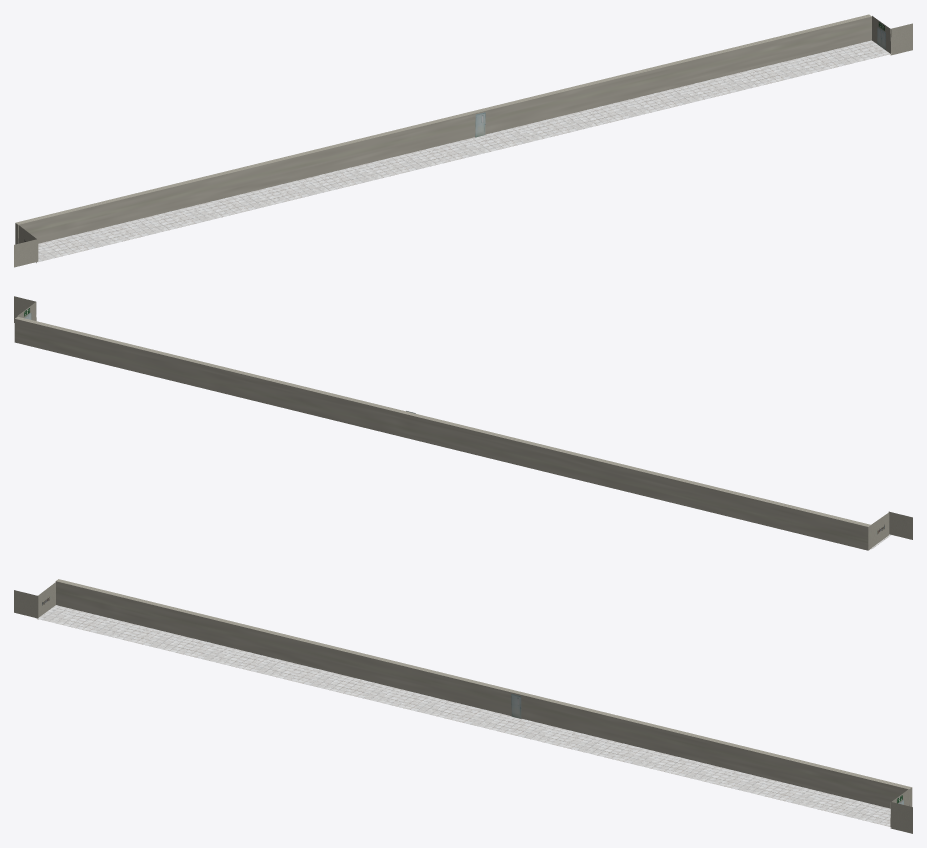
Rendered from hospital2.0.fbx.
3 renders of one model, top to bottom at view 1: azimuth 30°, elevation 25°; view 2: azimuth 150°, elevation 25°; view 3: azimuth 330°, elevation 25°, orthographic.
Visible parts, largest first — view 1: pCube1, pPlane1, pPlane3, pasted__pPlane3; view 2: pCube1, pasted__pPlane3; view 3: pCube1, pPlane1, pPlane3, pasted__pPlane3.
Boxes of the visible parts, x1=… form: pCube1: x1=15, y1=14, x2=871, y2=244; pPlane1: x1=35, y1=40, x2=891, y2=262; pPlane3: x1=890, y1=23, x2=912, y2=55; pasted__pPlane3: x1=14, y1=239, x2=38, y2=267; pCube1: x1=14, y1=316, x2=871, y2=550; pasted__pPlane3: x1=889, y1=511, x2=912, y2=539; pCube1: x1=55, y1=579, x2=912, y2=808; pPlane1: x1=36, y1=605, x2=891, y2=827; pPlane3: x1=890, y1=802, x2=912, y2=833; pasted__pPlane3: x1=14, y1=590, x2=38, y2=618.
Bounding box in the file's own units: 177 × 5.02 × 7.44.
5 materials, 5 textured.
